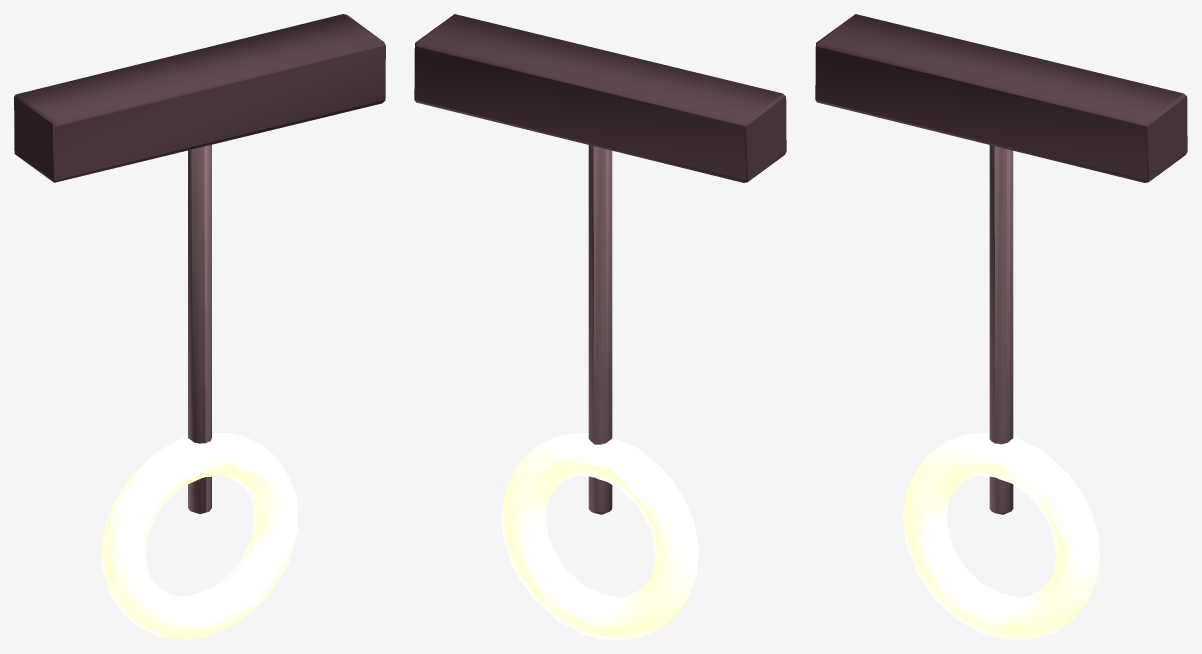
File: SM_Schlachthof_Hook_LOD2.fbx
3 renders of one model, left to right at view 1: azimuth 30°, elevation 25°; view 2: azimuth 150°, elevation 25°; view 3: azimuth 330°, elevation 25°, orthographic.
Parts seen in each view (by area): view 1: SM_Schlachthof_Hook_LOD2; view 2: SM_Schlachthof_Hook_LOD2; view 3: SM_Schlachthof_Hook_LOD2.
Boxes of the visible parts, x1,y1,x2,y2 form: SM_Schlachthof_Hook_LOD2: [14, 14, 385, 639]; SM_Schlachthof_Hook_LOD2: [414, 14, 786, 639]; SM_Schlachthof_Hook_LOD2: [815, 14, 1187, 639].
Bounding box in the file's own units: 1.39 × 2.27 × 0.2931.
